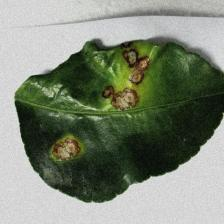canker: (42, 49, 158, 166)
